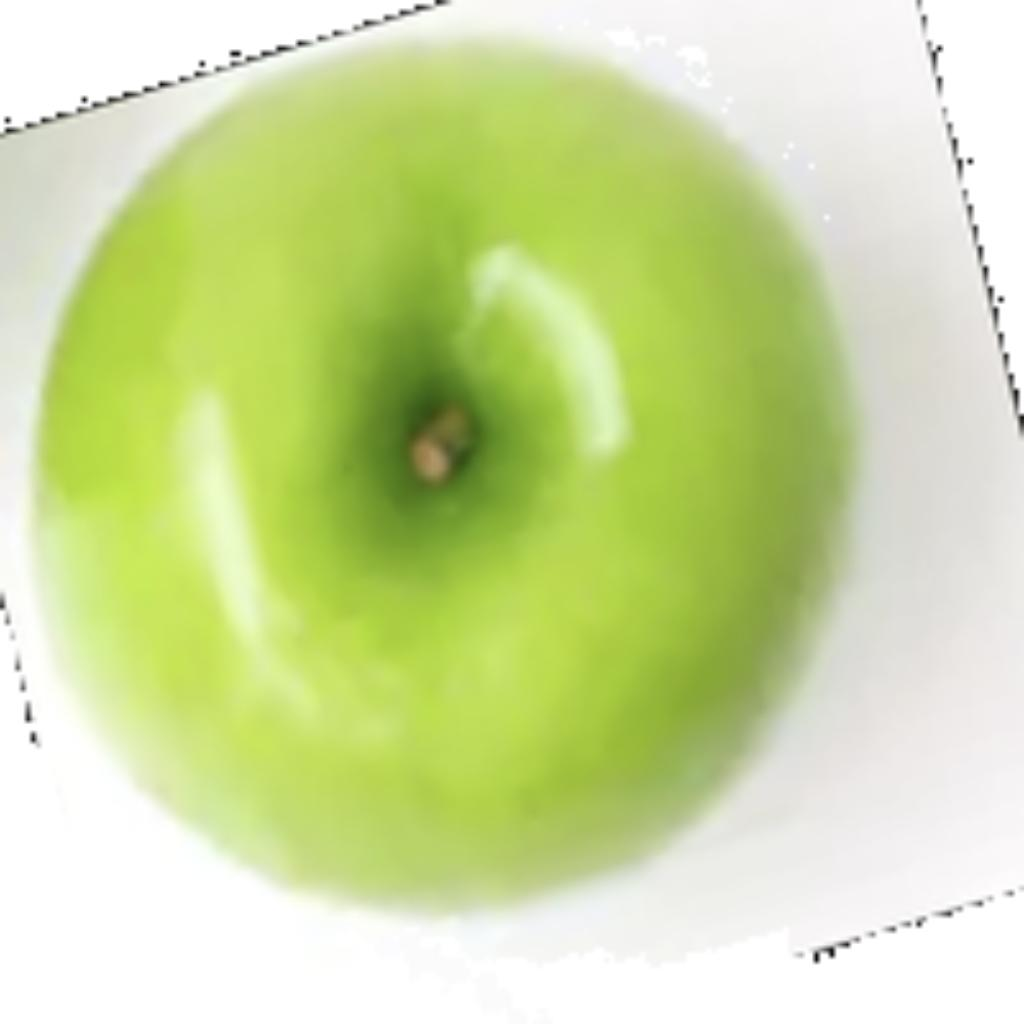apple: (15, 0, 870, 947)
